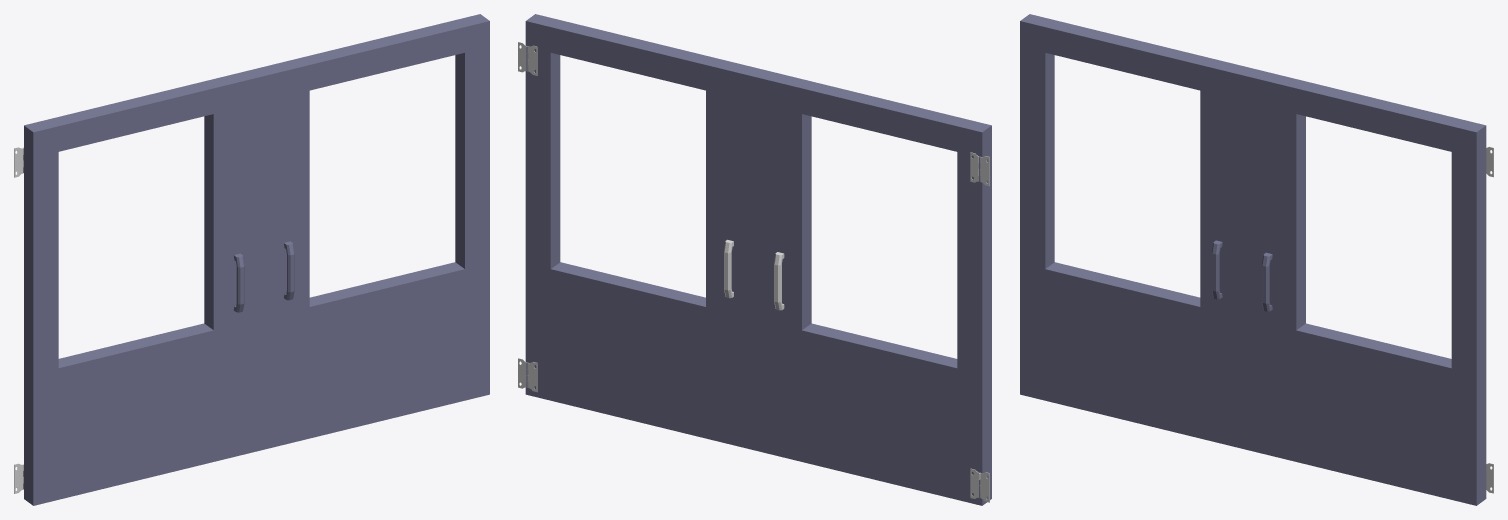
The model's file is AA_DeurDubbel_LOD0.fbx.
The picture shows the model from 3 angles, left to right: view 1: azimuth 30°, elevation 25°; view 2: azimuth 150°, elevation 25°; view 3: azimuth 330°, elevation 25°; orthographic projection.
Parts seen in each view (by area): view 1: AA_DeurDubbel_LOD0; view 2: AA_DeurDubbel_LOD0; view 3: AA_DeurDubbel_LOD0.
Part boxes in pixels (x1,y1,x2,y2): AA_DeurDubbel_LOD0: (14,14,489,505); AA_DeurDubbel_LOD0: (518,14,991,505); AA_DeurDubbel_LOD0: (1020,14,1493,505).
Size of the model in its own units: 2.84 by 2.15 by 0.2232.
